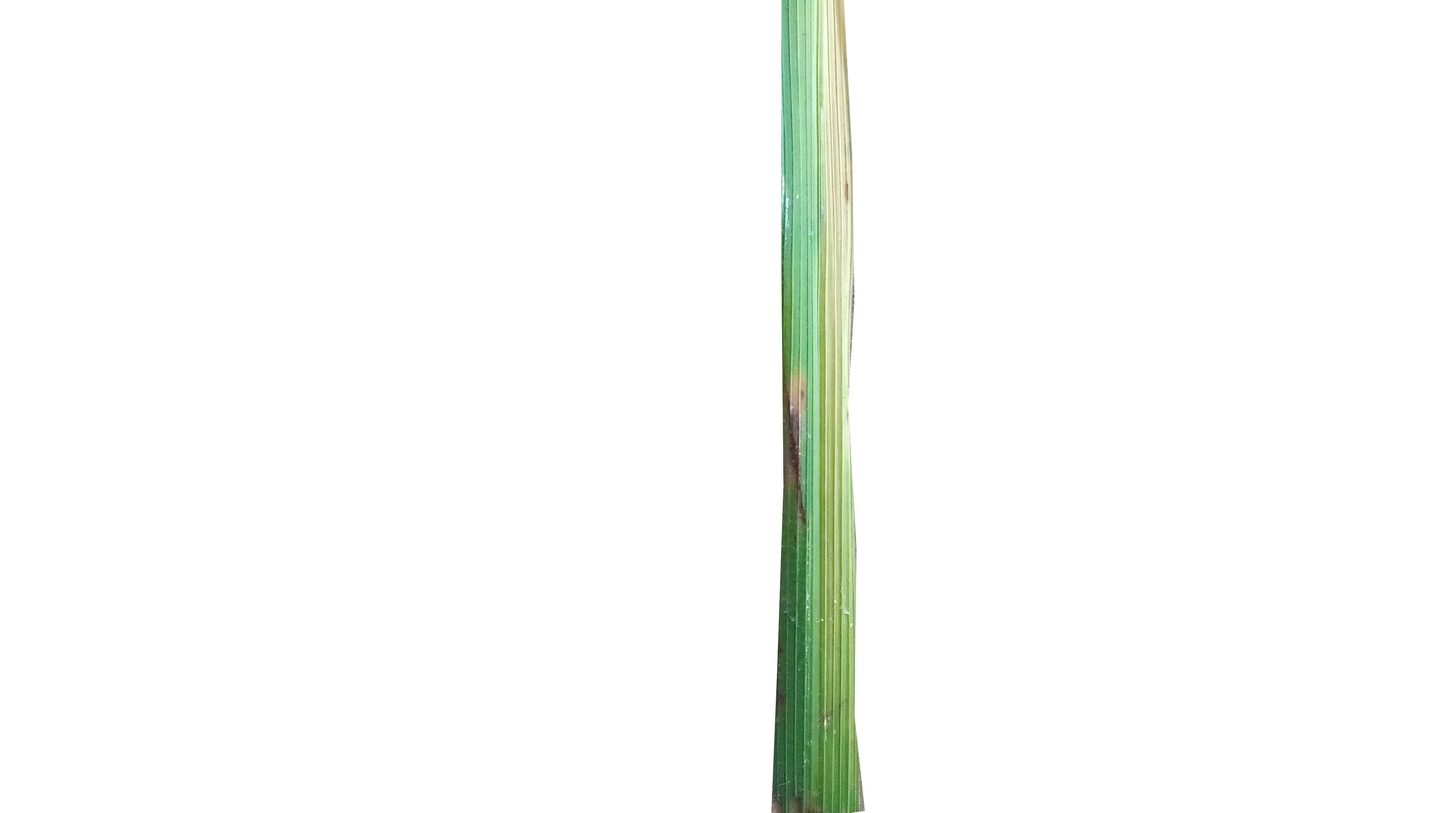Rice blast: (780, 375, 819, 545)
